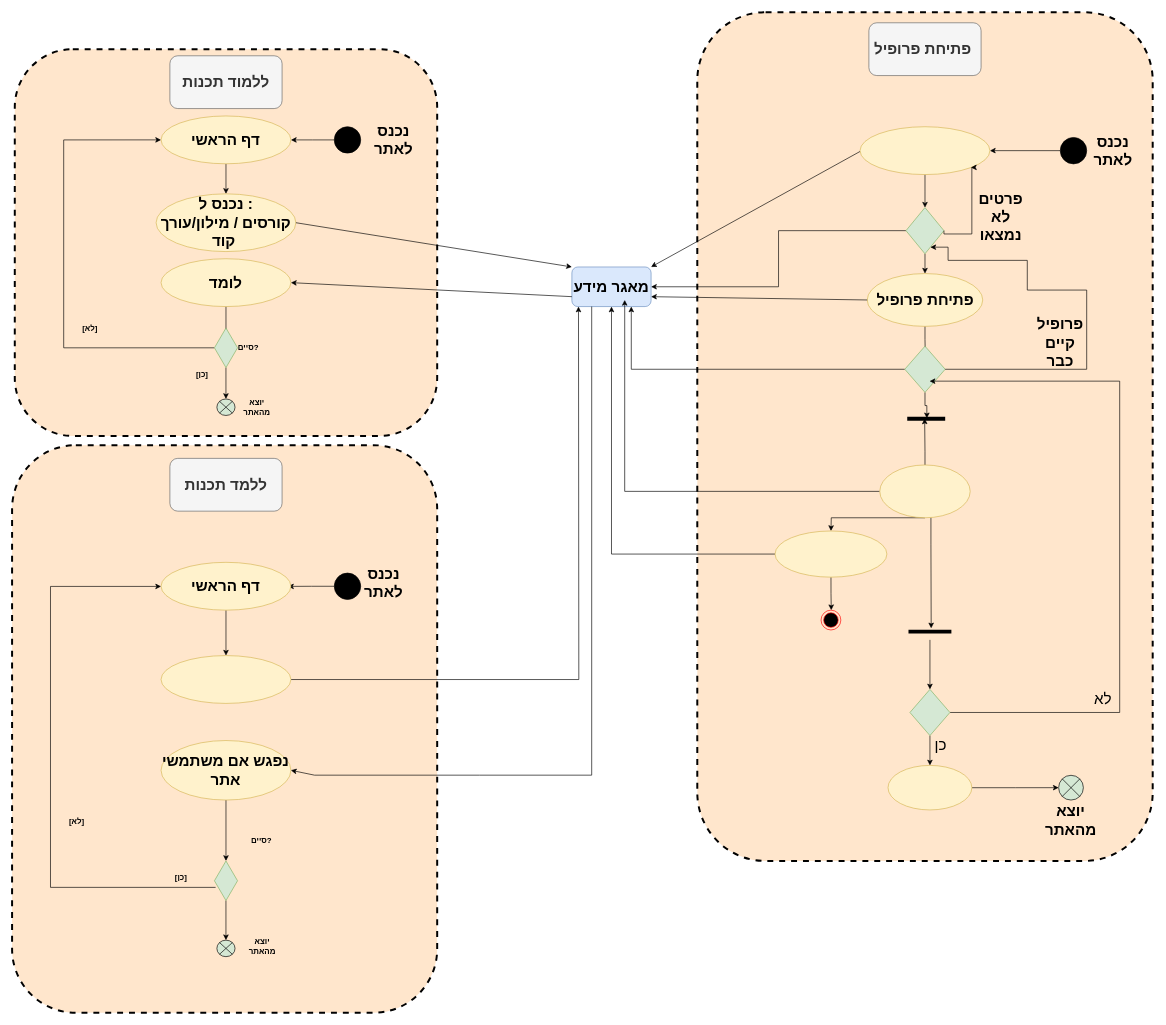
This 1166x1025 diagram has some shape labels left out. The shapes that lost their labels are listed below. From the top down, each one's centre as x and y in pixels, then its label:
the point at 924,150: הרשמה/התחברות
the point at 924,491: עריכת פרופיל
the point at 830,553: מחיקת פרופיל
the point at 225,679: מפרסם אירוע
the point at 929,787: התנתקות
